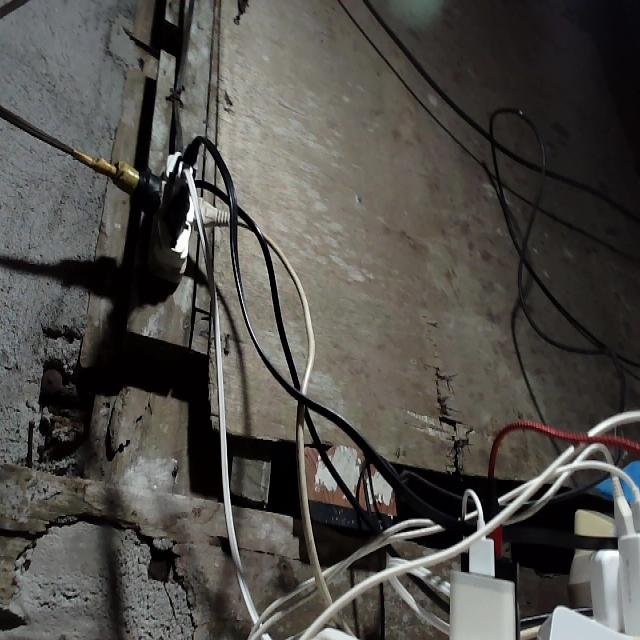-: (115, 135, 230, 281)
